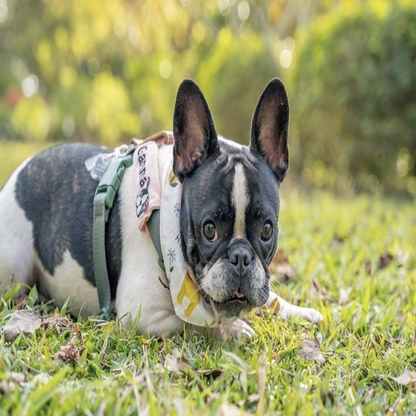bulldog: (1, 75, 323, 344)
